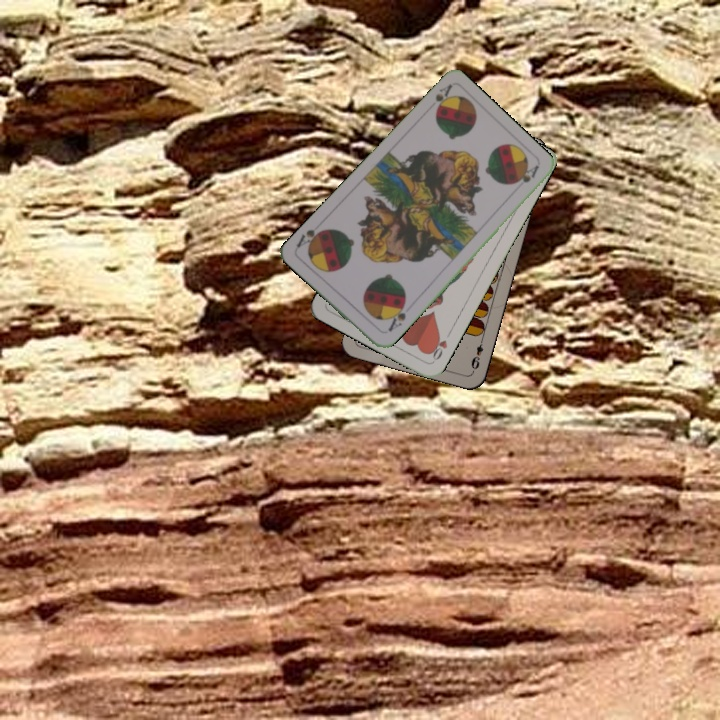E9: (467, 334, 486, 374)
HO: (425, 327, 454, 364)
SA: (381, 299, 408, 336), (431, 81, 455, 117)
